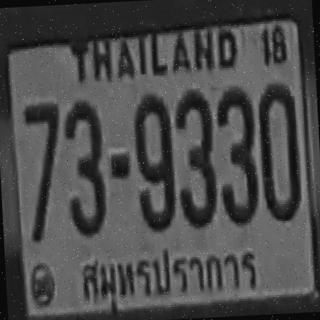N00: (256, 81, 300, 220)
N03: (172, 88, 217, 226), (62, 97, 106, 235), (214, 86, 258, 224)
N07: (22, 100, 64, 241)
N09: (131, 92, 175, 230)
P57: (75, 238, 265, 310)
